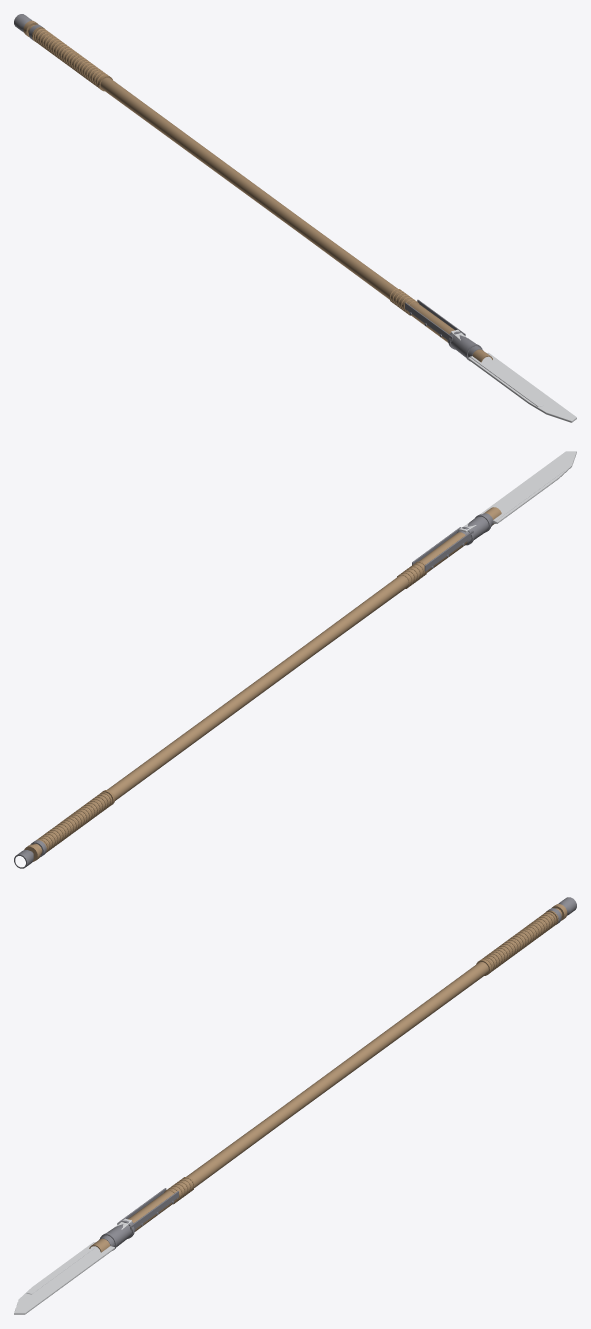
Rendered from glaive.glb.
3 views of the same model, one above another, from view 1: azimuth 30°, elevation 25°; view 2: azimuth 150°, elevation 25°; view 3: azimuth 330°, elevation 25° (orthographic).
Parts seen in each view (by area): view 1: glaive; view 2: glaive; view 3: glaive.
Boxes of the visible parts, <box> form: glaive: <box>14,14,576,422</box>; glaive: <box>14,451,576,868</box>; glaive: <box>14,897,576,1314</box>.
Bounding box in the file's own units: 0.0561 × 0.043 × 2.54.
